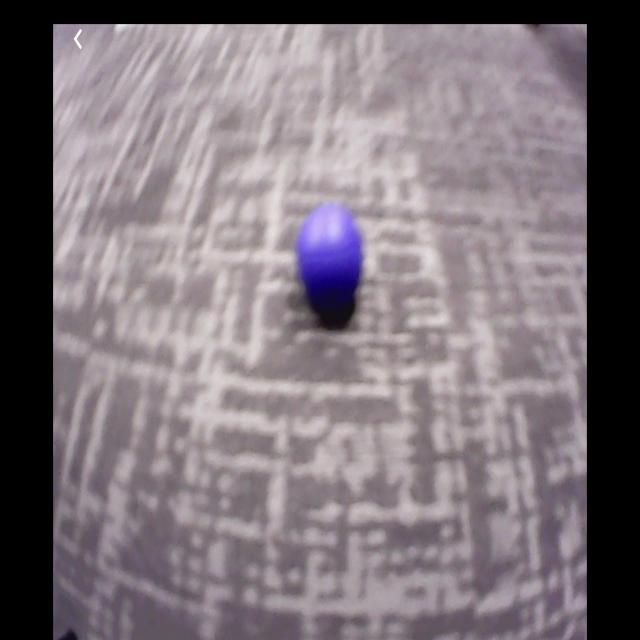ball: (300, 205, 362, 301)
